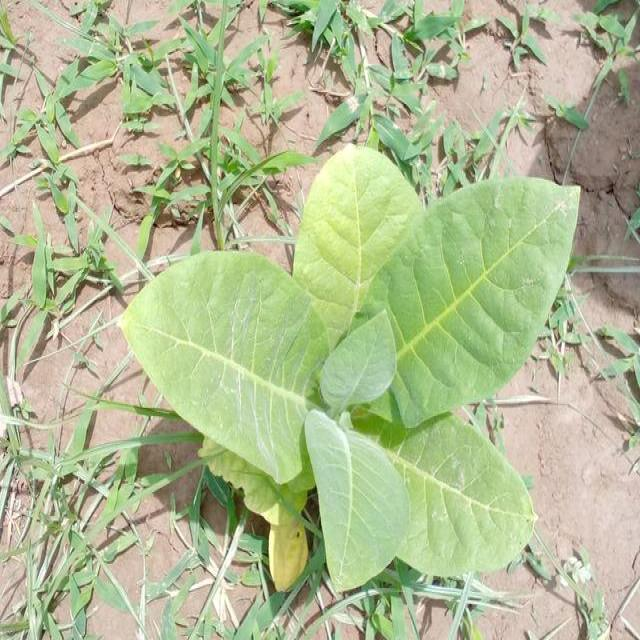crop: (138, 137, 579, 574)
